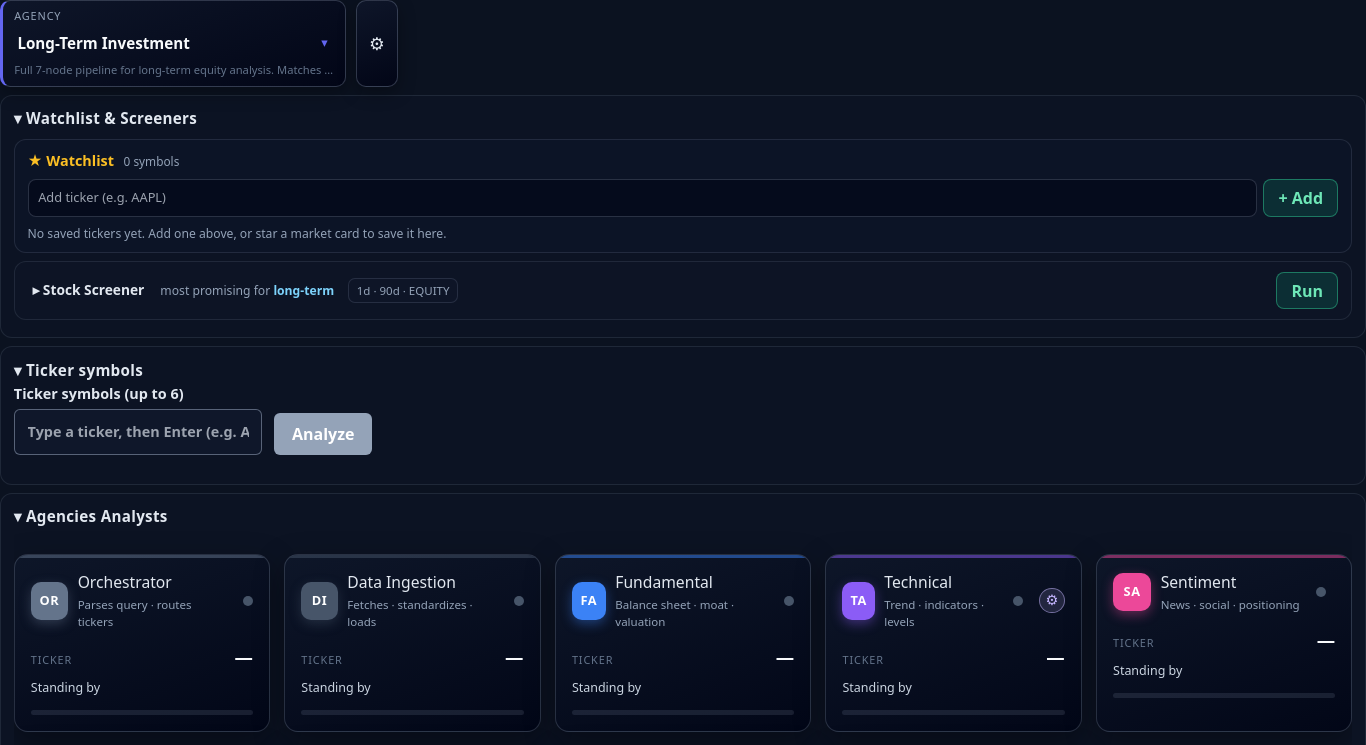
Test: AnalysisView — agency-first UX › switches the wall to the 4-node crypto-screener on dropdown change
Select "Crypto Screener" in the dropdown named "Select analysis agency". click: (158,43)
box: left=14, top=28, right=301, bottom=58
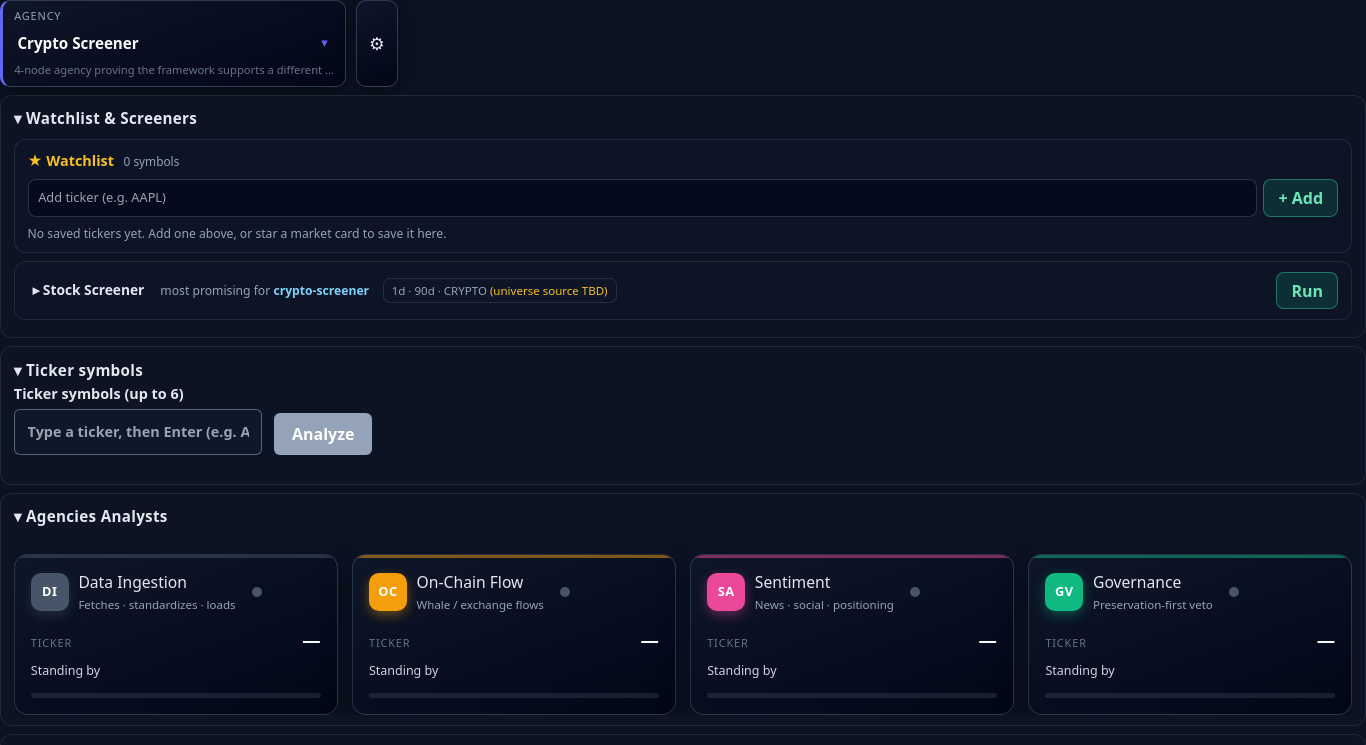
Expected: the heading "On-Chain Flow" is shown, left=417, top=571, right=523, bottom=593
Expected: the heading "Orchestrator" is gone
Expected: the heading "Fundamental" is gone
